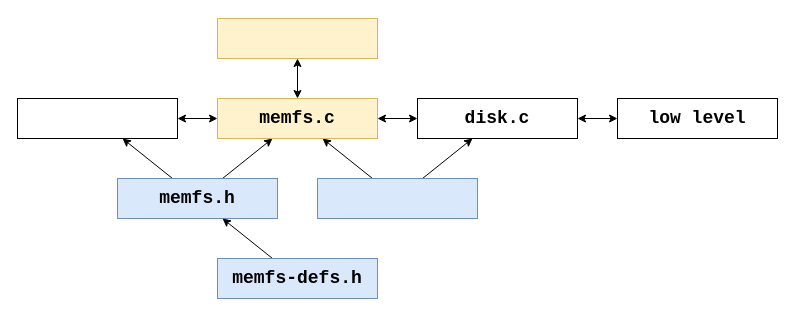
This 795x316 diagram has some shape labels left out. Here are the shapes that lost their labels. From the top down, the box of each, then its label:
(216, 18, 378, 58): internal files
(16, 98, 178, 138): app
(316, 178, 478, 218): memfs-disk.h
